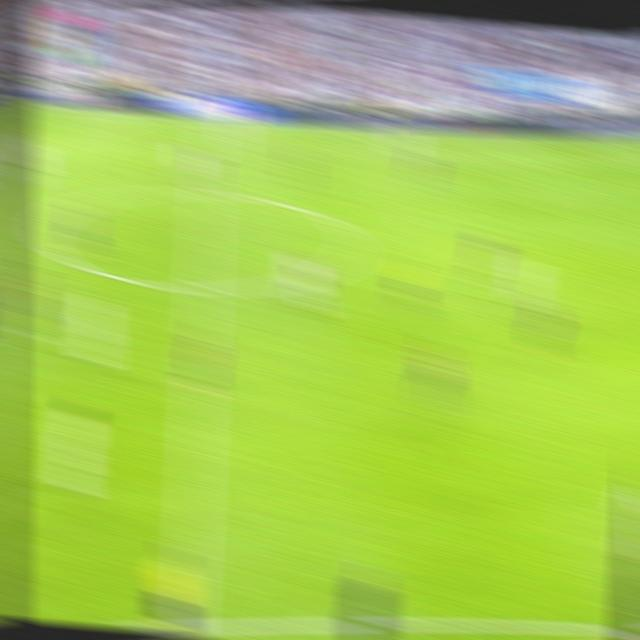halfcircle_bottom: (186, 267, 219, 308)
halfcircle_top: (191, 176, 222, 210)
midline_bottom_intersection: (170, 596, 206, 634)
midline_top_intersection: (196, 113, 223, 135)
